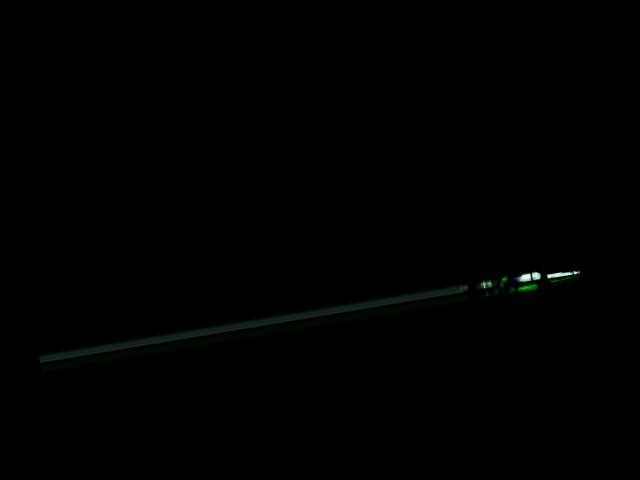beer: (481, 263, 582, 303)
